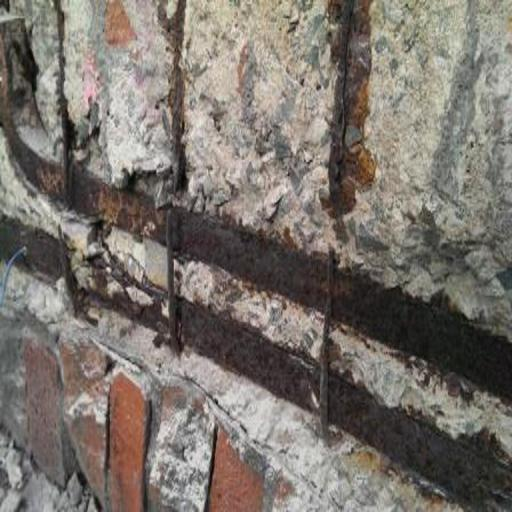spalling: (3, 6, 511, 510)
